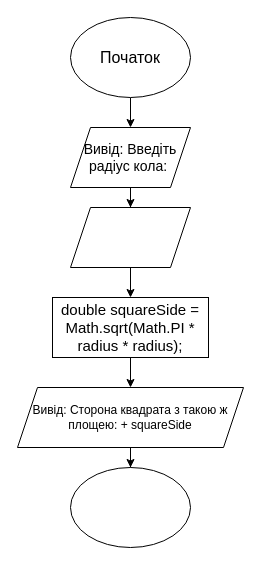
The diagram is 261 pixels wide and 565 high, and some of its shapes have lost their labels. The shapes that lost their labels are listed below. From the top down, each one's centre as x and y in pixels, then its label:
At point 130,237: "Ввід: radius".
At point 130,507: "Кінець".
